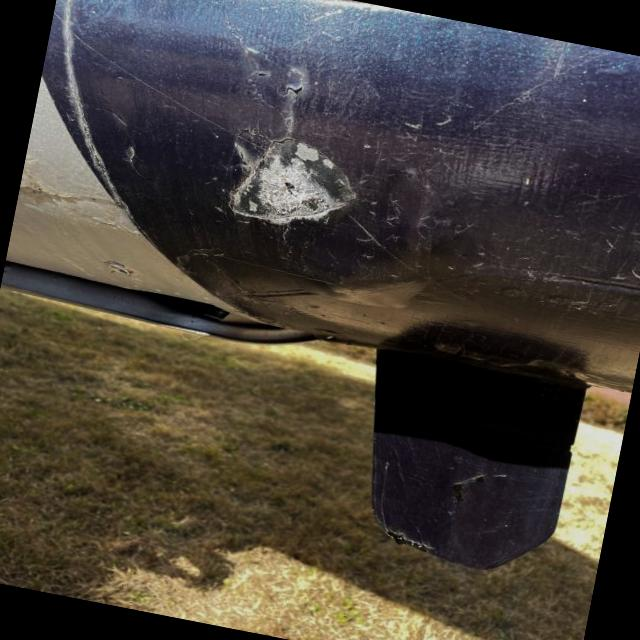crack: (239, 68, 312, 100)
dent: (213, 125, 374, 242)
